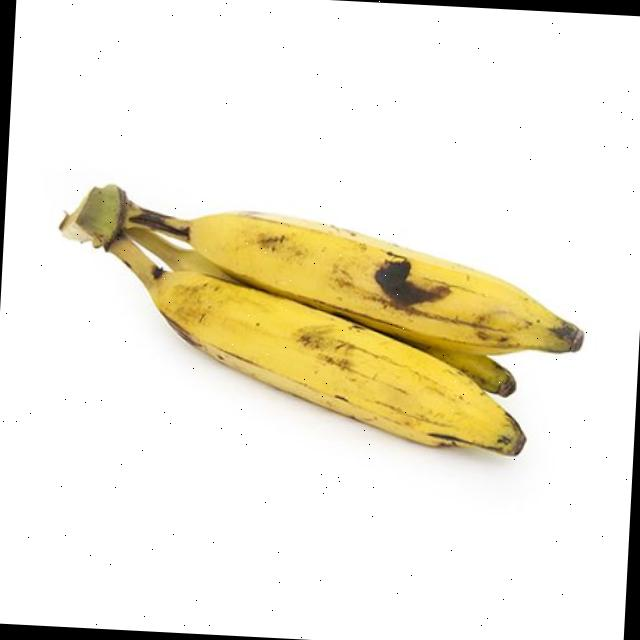Pisang: (49, 180, 590, 460)
